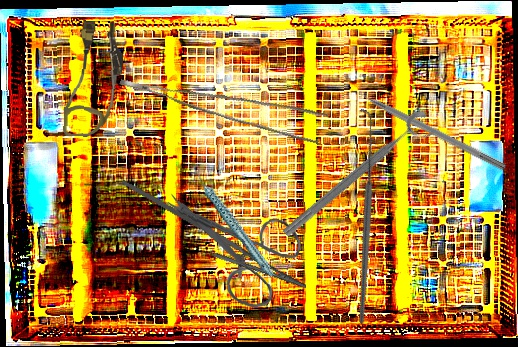Cannula: (63, 19, 125, 139)
Fixation Ring: (278, 107, 440, 250)
Handpiece: (194, 157, 275, 289)
Hook Surgical: (262, 106, 463, 327)
Iris Scissors: (162, 183, 306, 315)
Needle Holder: (105, 178, 317, 305)
Pusher: (341, 80, 509, 172)
Tissue Forceps: (119, 44, 329, 155)
